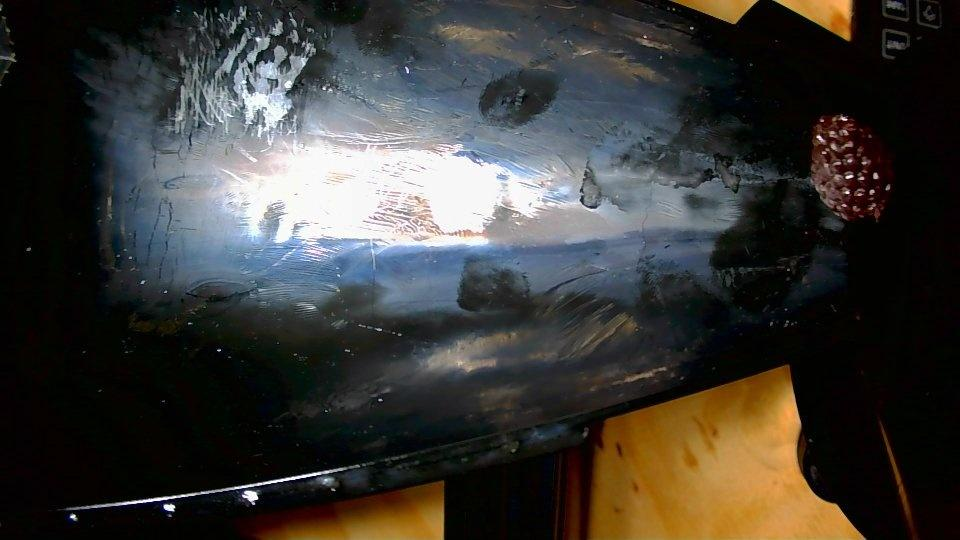berry: (811, 115, 892, 220)
